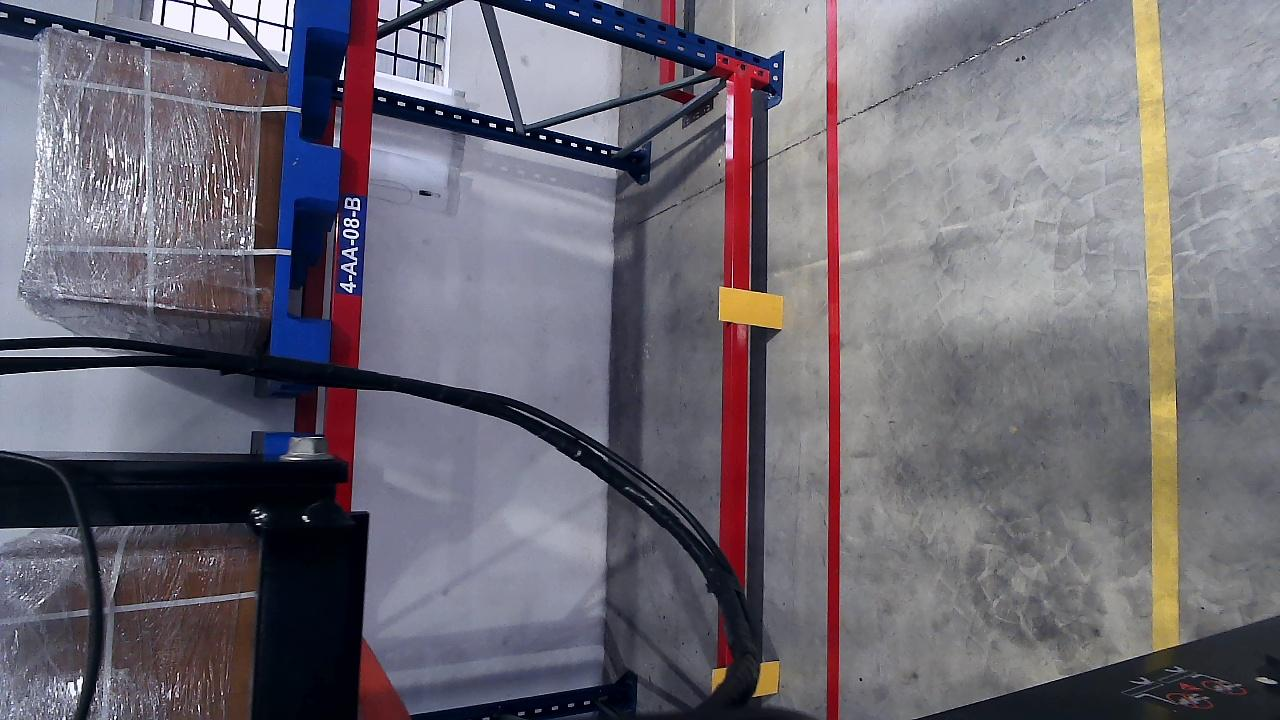h_rack: (326, 0, 382, 504), (725, 66, 758, 648)
orange_strip: (718, 287, 784, 329), (709, 661, 780, 697)
red_line: (823, 0, 842, 720)
small_pallet: (269, 0, 354, 360)
yellow_line: (1135, 0, 1181, 646)
